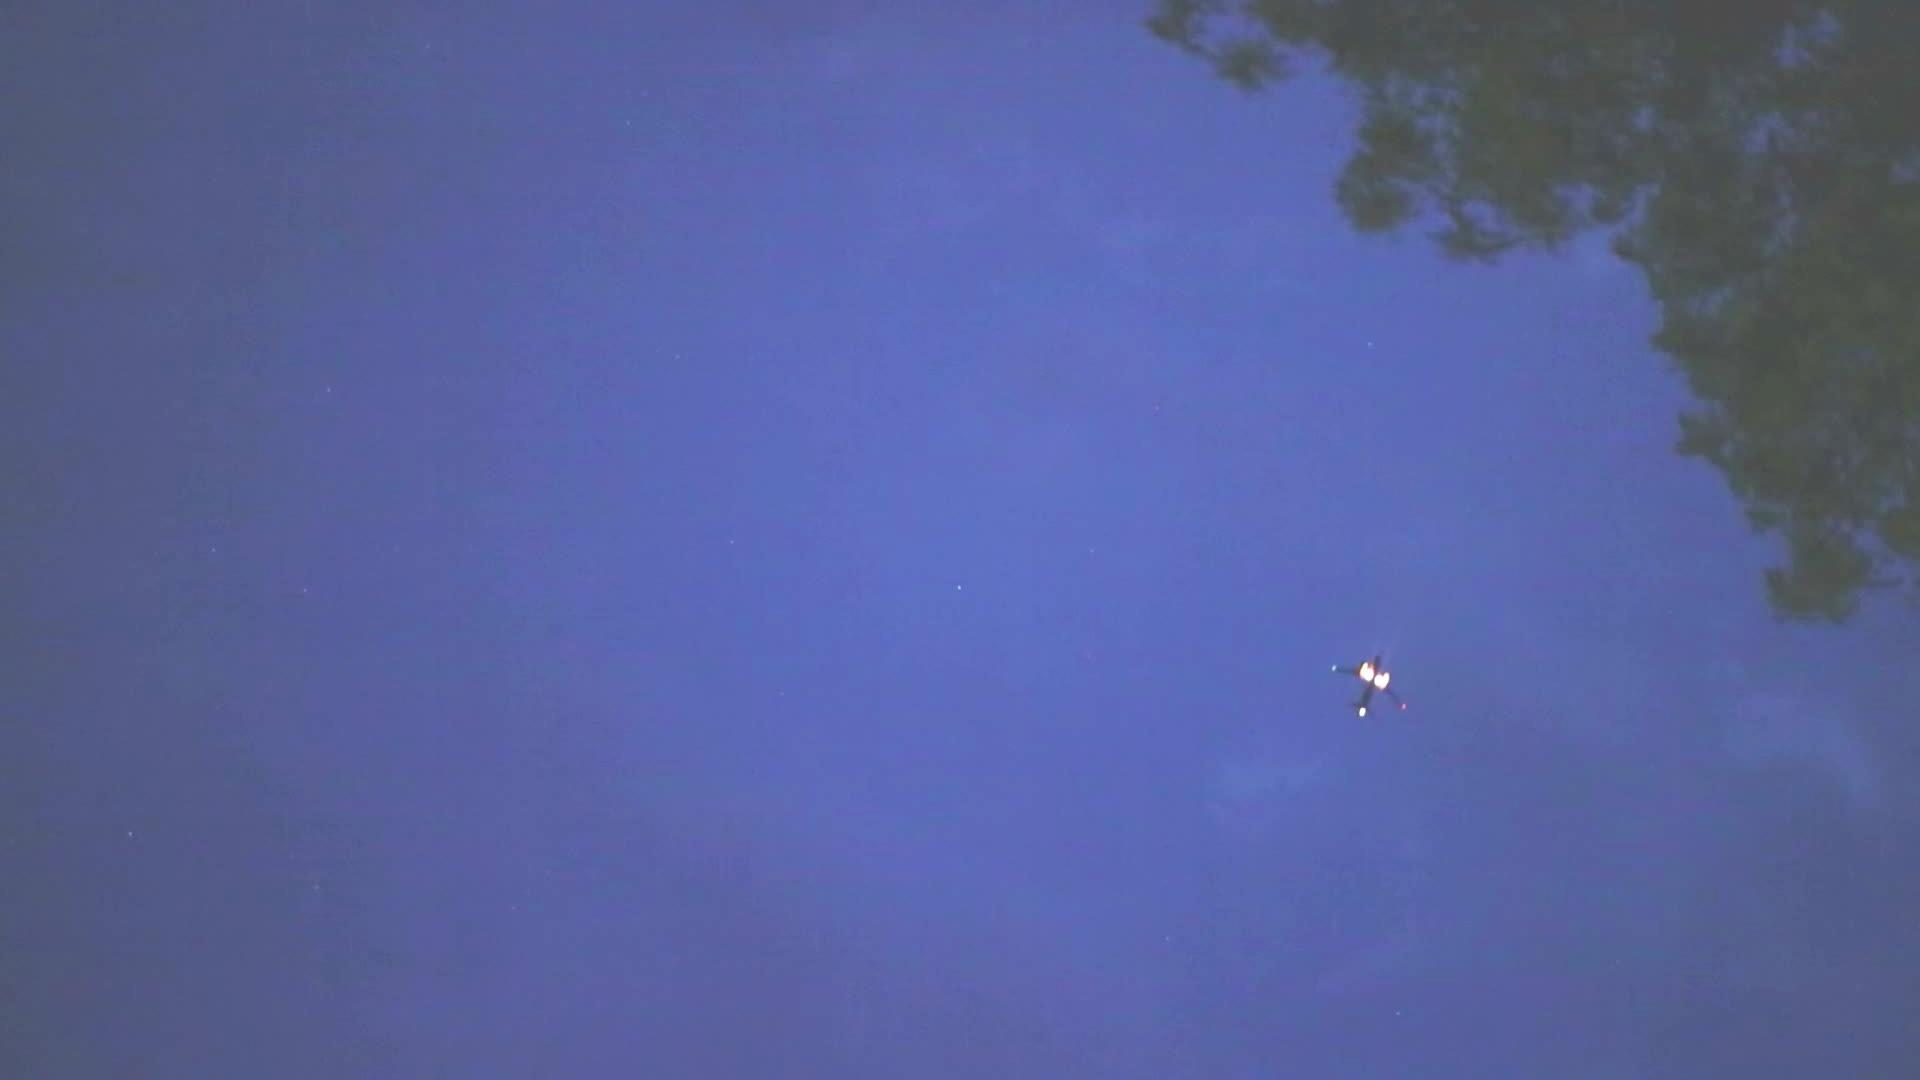Plane: (1305, 638, 1439, 738)
